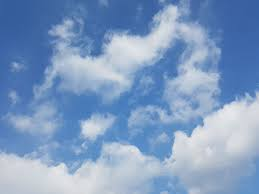sky: (1, 2, 258, 194)
